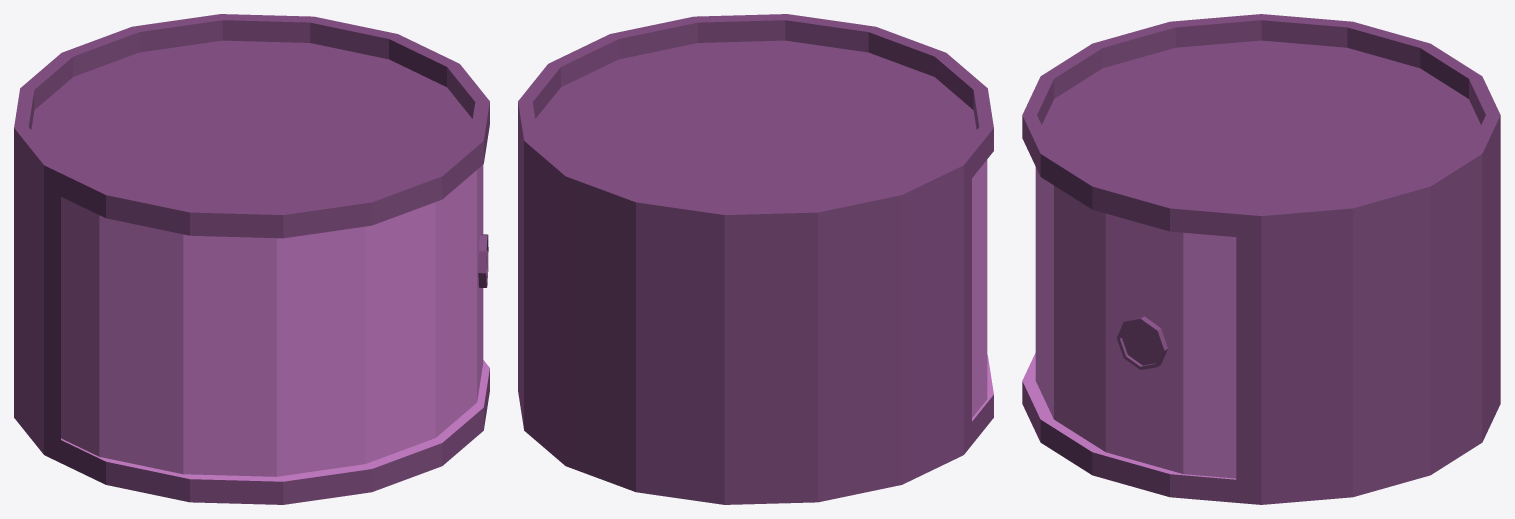
File: Prop_Storage_01.fbx
3 renders of one model, left to right at view 1: azimuth 30°, elevation 25°; view 2: azimuth 150°, elevation 25°; view 3: azimuth 270°, elevation 25°, orthographic.
Parts seen in each view (by area): view 1: Prop_Storage_01; view 2: Prop_Storage_01; view 3: Prop_Storage_01.
Boxes of the visible parts, x1,y1,x2,y2 form: Prop_Storage_01: (14, 14, 489, 504); Prop_Storage_01: (518, 14, 993, 504); Prop_Storage_01: (1022, 14, 1500, 504).
Bounding box in the file's own units: 45.27 × 30.16 × 45.27.
